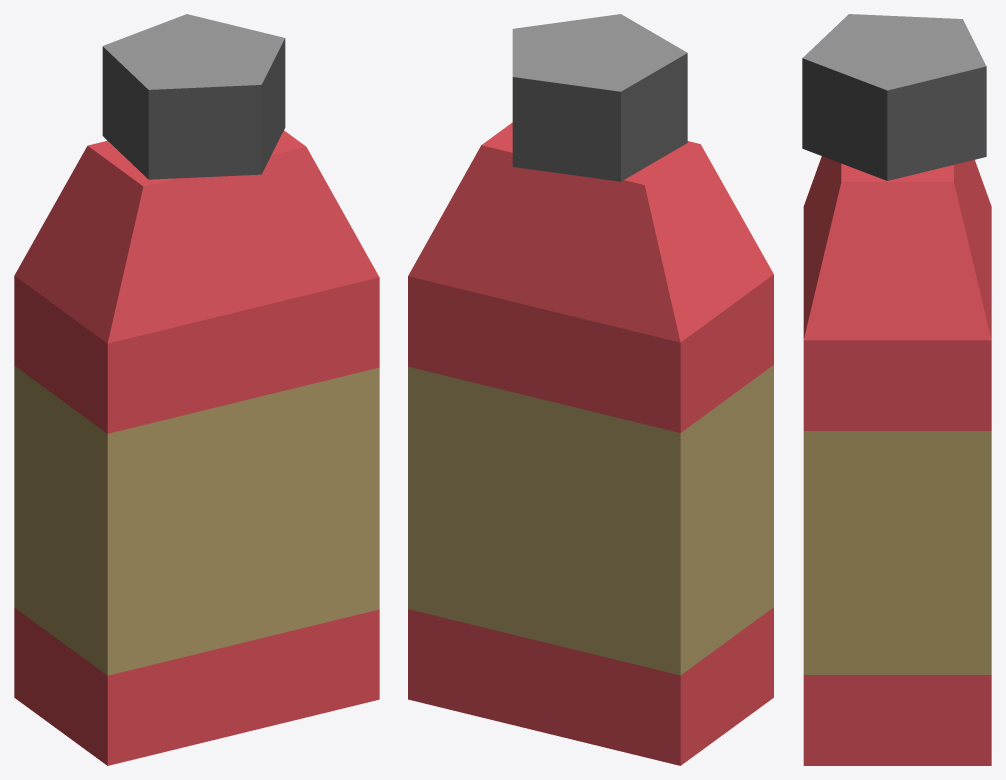
File: TB_D_Prop_Bottle_Med_D.FBX
3 renders of one model, left to right at view 1: azimuth 30°, elevation 25°; view 2: azimuth 150°, elevation 25°; view 3: azimuth 270°, elevation 25°, orthographic.
Parts seen in each view (by area): view 1: TB_D_Prop_Bottle_Med_D; view 2: TB_D_Prop_Bottle_Med_D; view 3: TB_D_Prop_Bottle_Med_D.
Boxes of the visible parts, <box> form: TB_D_Prop_Bottle_Med_D: <box>14,14,379,765</box>; TB_D_Prop_Bottle_Med_D: <box>408,14,773,765</box>; TB_D_Prop_Bottle_Med_D: <box>802,14,991,765</box>.
Size of the model in its own units: 0.3144 by 0.7119 by 0.1879.
